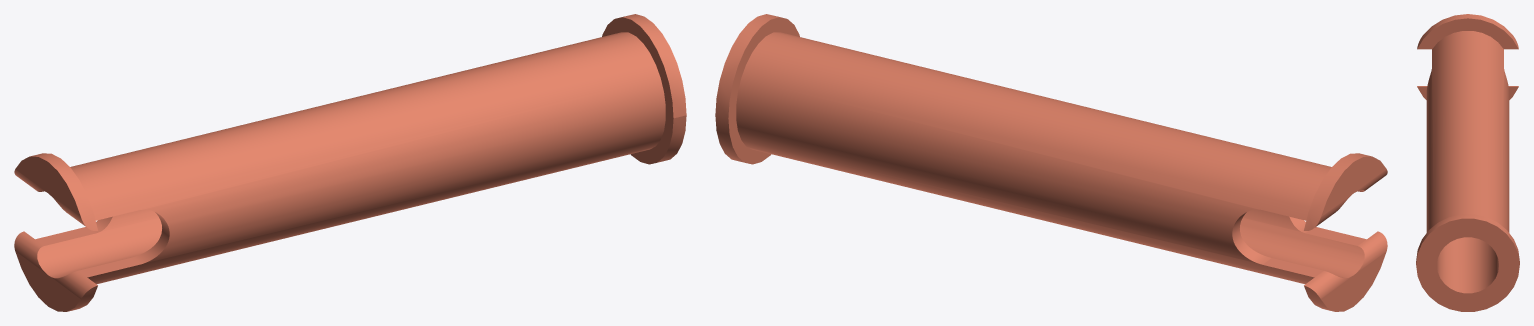
3 views of the same model, side by side, from view 1: azimuth 30°, elevation 25°; view 2: azimuth 150°, elevation 25°; view 3: azimuth 270°, elevation 25° (orthographic). The views are drawn at different scales.
Visible parts, largest first — view 1: [pivoted]; view 2: [pivoted]; view 3: [pivoted].
Boxes of the visible parts, x1,y1,x2,y2 form: [pivoted]: (14, 14, 686, 311); [pivoted]: (715, 14, 1387, 311); [pivoted]: (1416, 14, 1519, 311).
Size of the model in its own units: 2.3 by 0.53 by 0.5.
